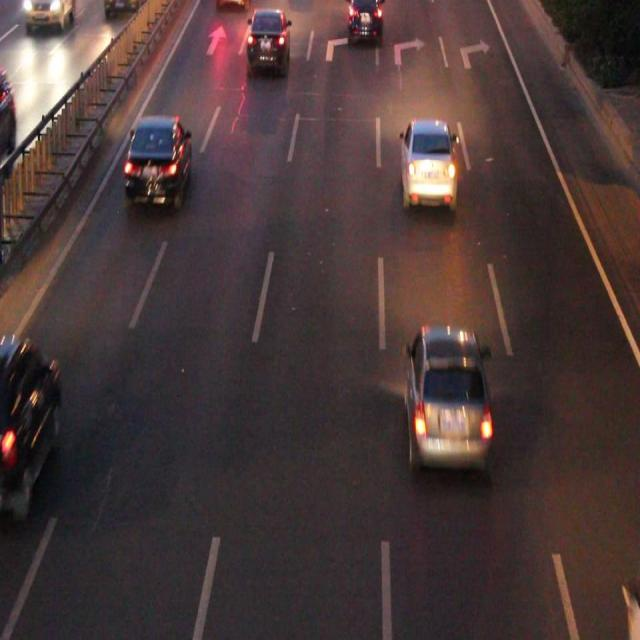car: (405, 327, 491, 466), (1, 333, 61, 512), (126, 117, 190, 198), (399, 124, 455, 204), (248, 10, 288, 68), (348, 1, 380, 39)
